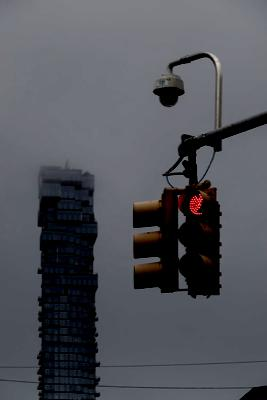International Road Signal Light: (177, 185, 222, 296), (131, 189, 175, 292)
